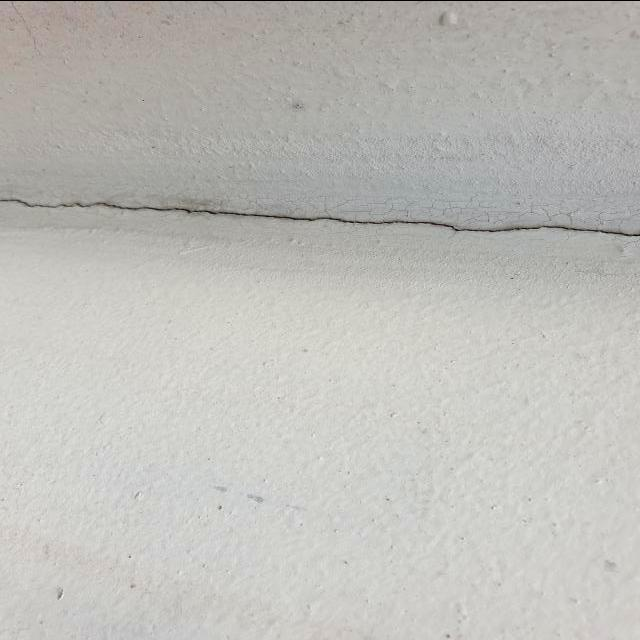SurfaceCrack: (0, 148, 639, 280)
